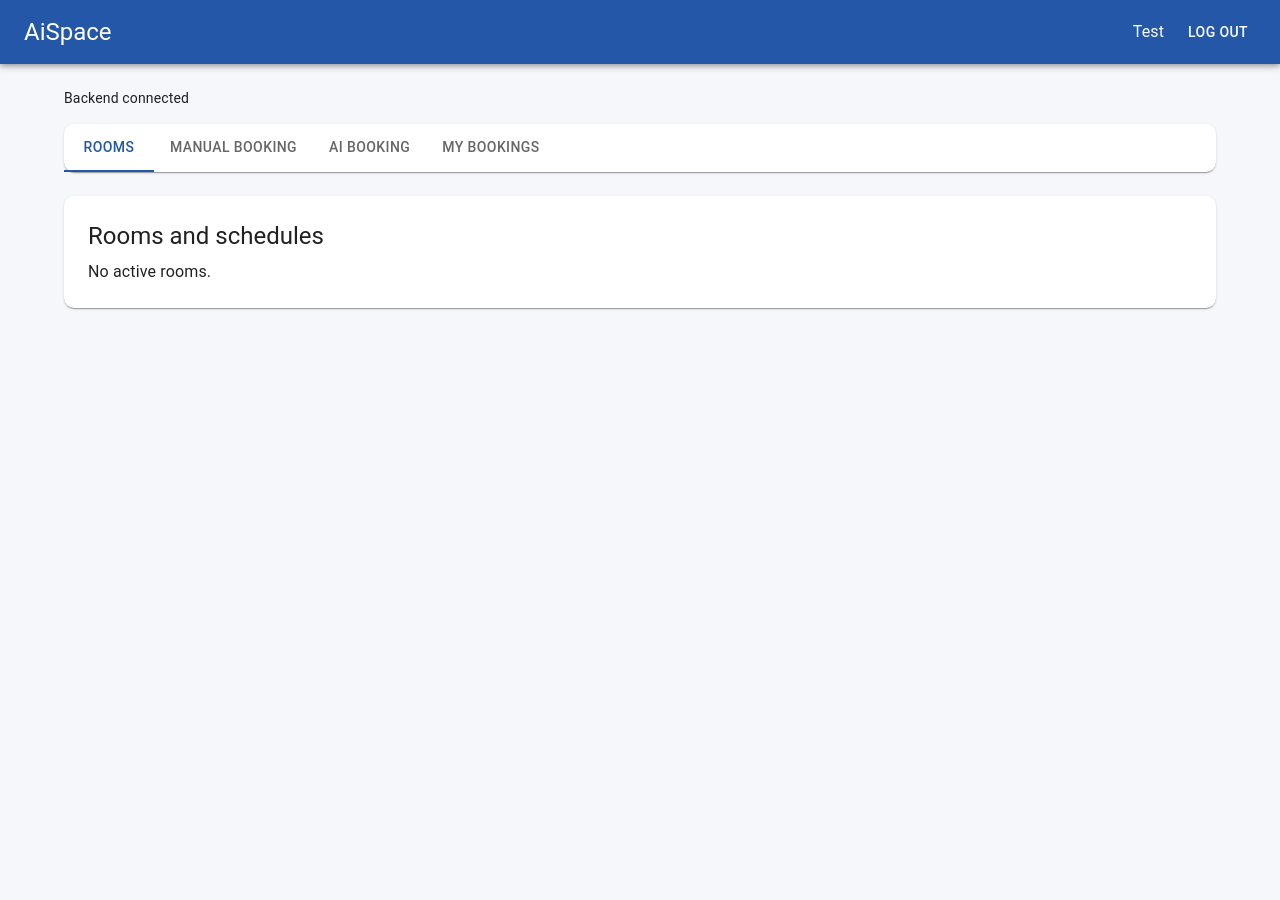
Test: App health state › labels cancelled, upcoming, in-progress, and past bookings separately
Click the tab "My bookings": [491, 148] box [426, 124, 556, 172]
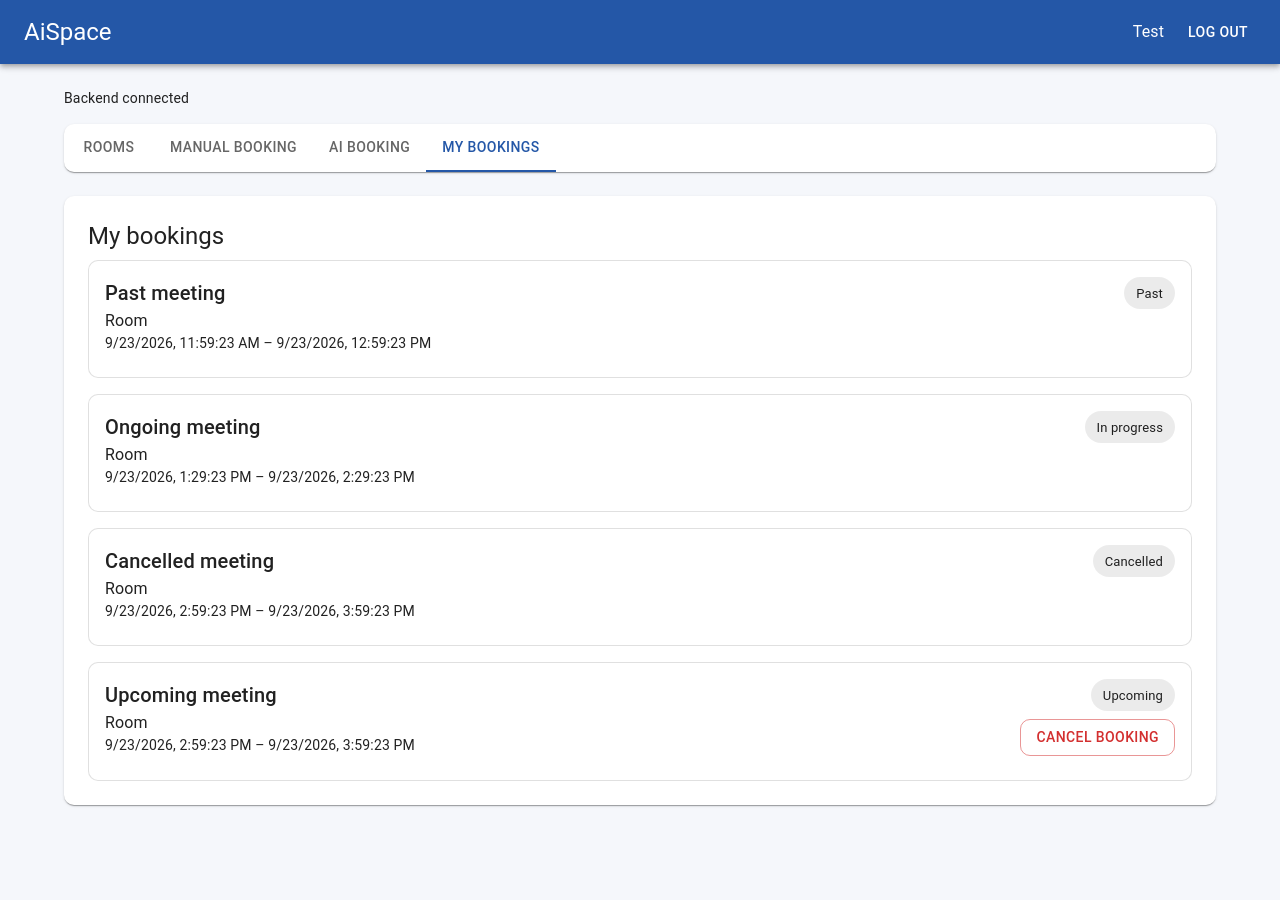
Check: the text "Cancelled" is shown, box [1105, 554, 1163, 569]
Check: the text "Upcoming" is shown, box [1103, 688, 1163, 703]
Check: the text "In progress" is shown, box [1096, 420, 1163, 435]
